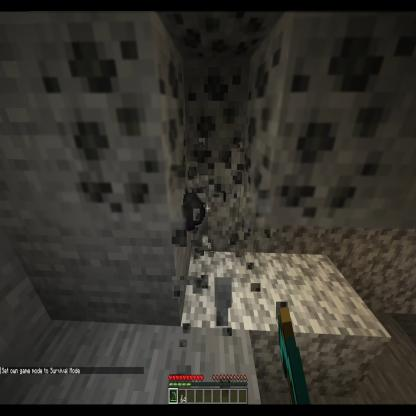coal ore: (245, 0, 412, 229), (30, 11, 192, 230), (181, 51, 250, 205), (155, 0, 288, 64)
